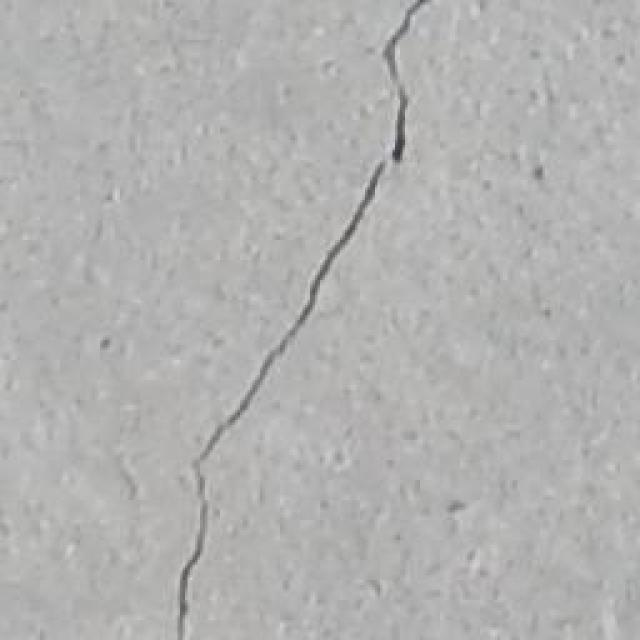concrete-crack: (171, 0, 432, 640)
